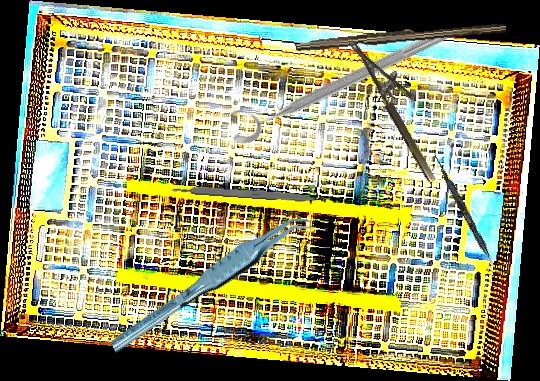Fixation Ring: (221, 10, 452, 149)
Needle Holder: (348, 26, 455, 185)
Scalpel Handle: (294, 17, 507, 55), (169, 182, 321, 204)
Spatula Surgical: (429, 152, 506, 282)
Tissue Forceps: (96, 209, 326, 355)
